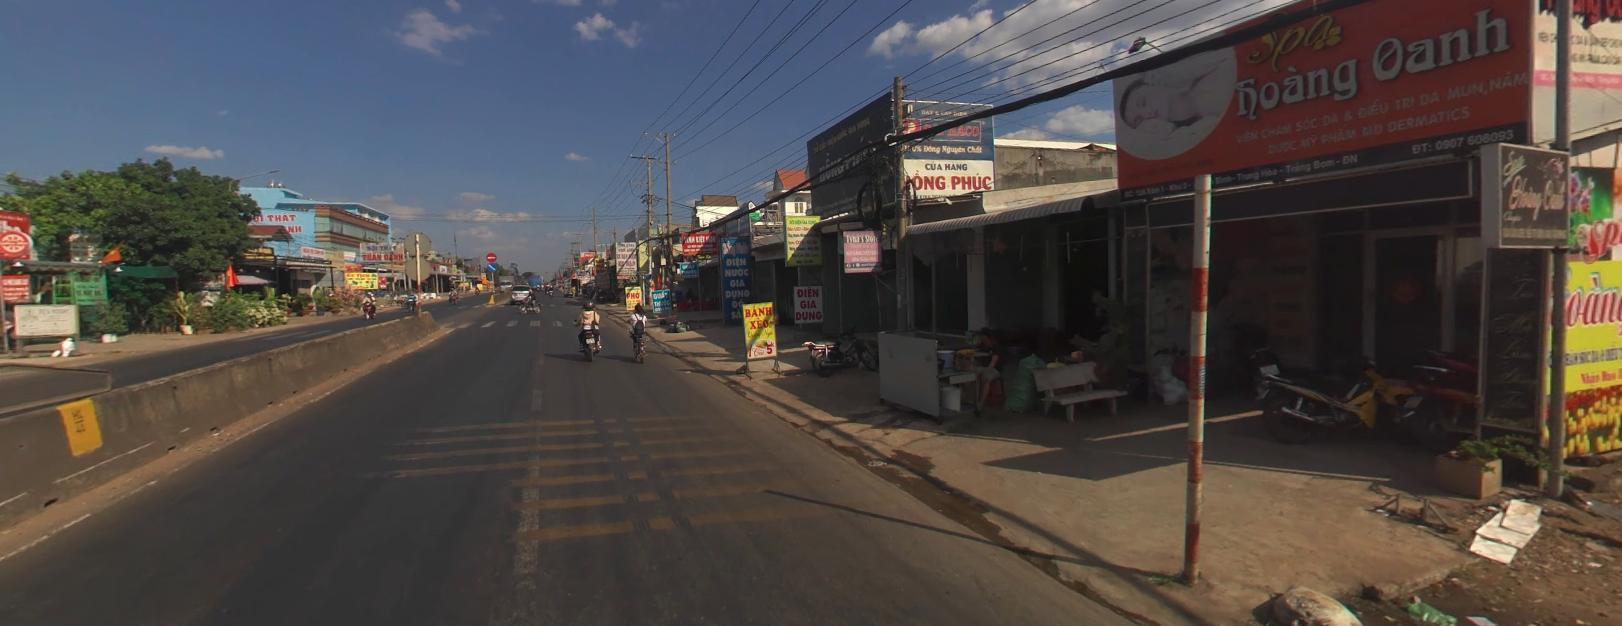Cam nguoc chieu: (485, 250, 495, 260)
Hieu lenh: (487, 261, 498, 270)
